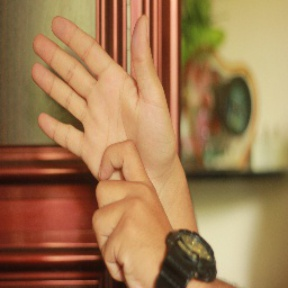R: (24, 12, 175, 271)
